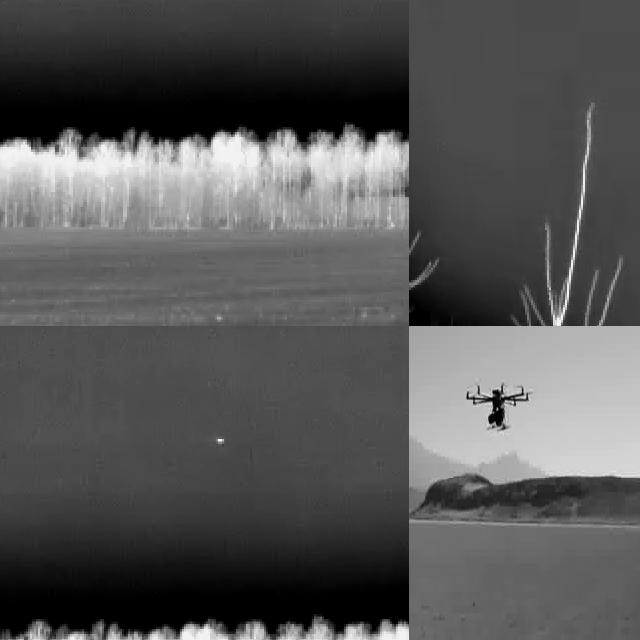1: (210, 430, 238, 458)
drone: (461, 376, 532, 437)
